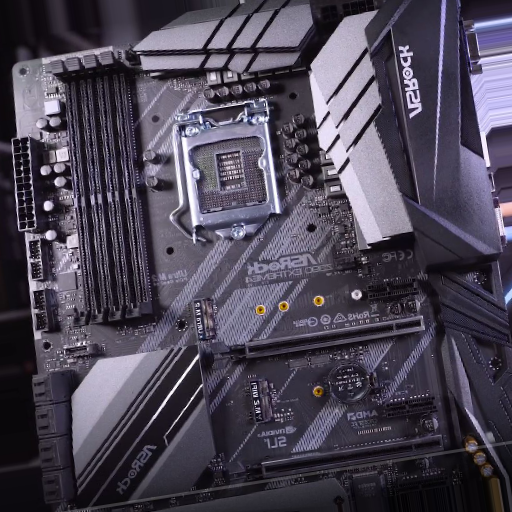CPU: (181, 117, 291, 243)
GPU: (226, 434, 445, 494), (210, 315, 426, 372)
MOTHERBOARD: (16, 11, 508, 507)
RAM: (48, 52, 159, 323)
SSD: (246, 376, 274, 427), (190, 296, 220, 338)
